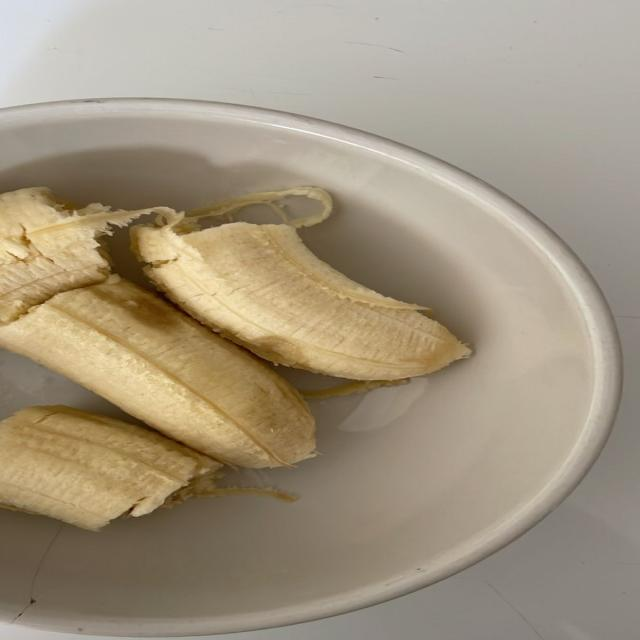banana slice: (0, 276, 314, 467), (132, 214, 470, 380), (0, 406, 220, 530), (0, 188, 147, 323)
